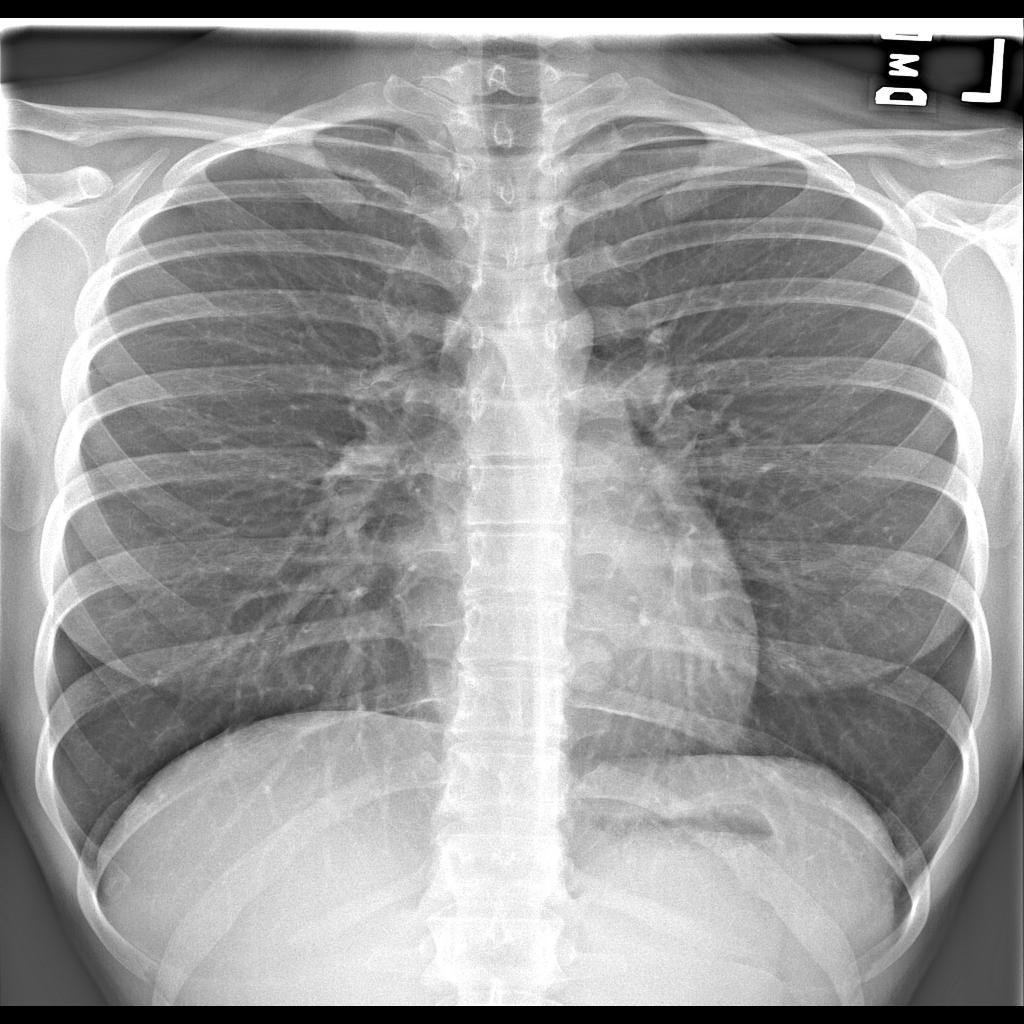Nodule: (559, 632, 622, 702)
